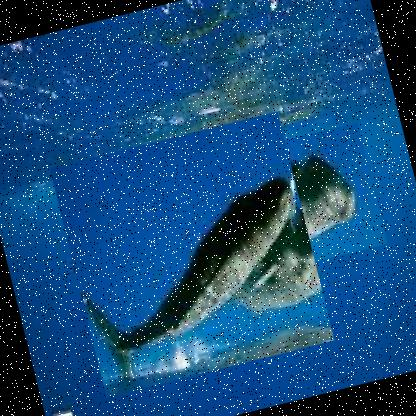sperm_whale: (48, 112, 334, 398), (185, 123, 388, 288)
